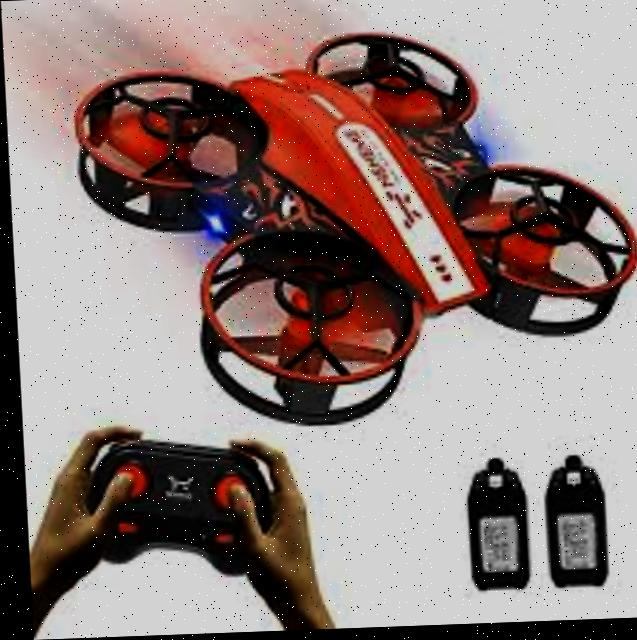drone: (49, 21, 637, 441)
